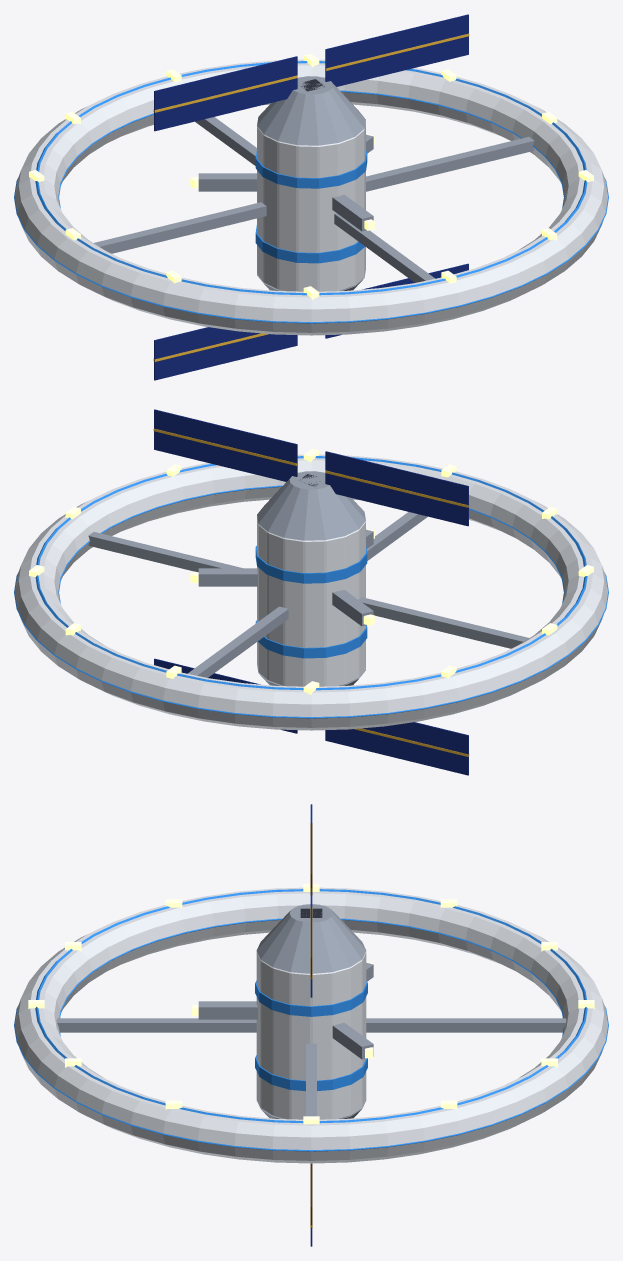
Rendered from station.glb.
The picture shows the model from 3 angles, top to bottom: view 1: azimuth 30°, elevation 25°; view 2: azimuth 150°, elevation 25°; view 3: azimuth 270°, elevation 25°; orthographic projection.
Visible parts, largest first — view 1: Ring, station; view 2: Ring, station; view 3: Ring, station.
Part boxes in pixels (box(x1,y1,x2,y2)): Ring: box(14, 54, 608, 335); station: box(153, 14, 469, 380); Ring: box(14, 449, 608, 730); station: box(153, 409, 469, 775); Ring: box(14, 884, 608, 1163); station: box(192, 804, 373, 1246).
Bounding box in the file's own units: 21.64 × 11.6 × 21.64.
1 material, 1 textured.
